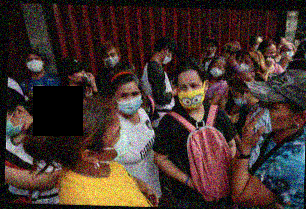mask_weared_incorrect: (72, 69, 87, 84), (204, 42, 215, 57)
with_mask: (99, 122, 131, 162), (255, 98, 291, 132), (177, 79, 205, 110), (116, 87, 142, 115), (5, 113, 23, 137), (229, 89, 247, 109), (25, 54, 43, 73), (103, 50, 119, 68), (237, 57, 253, 74), (209, 61, 223, 77), (263, 46, 276, 60), (280, 46, 292, 59), (162, 52, 172, 65)
